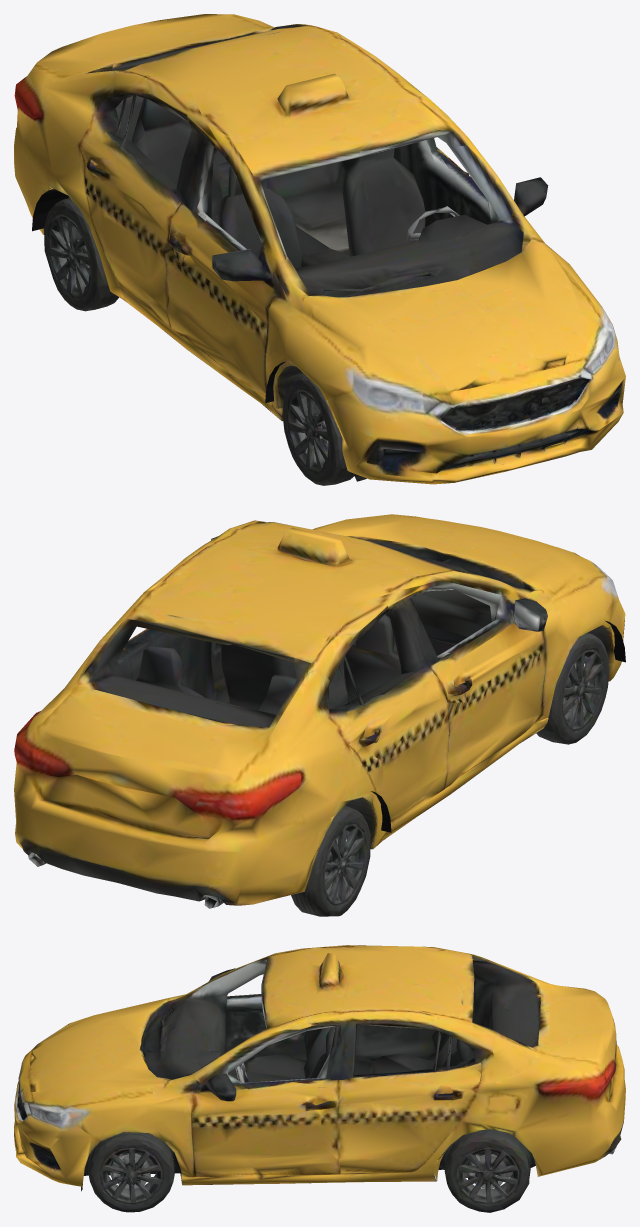
The model's file is car_taxi_lod.glb.
3 renders of one model, top to bottom at view 1: azimuth 30°, elevation 25°; view 2: azimuth 150°, elevation 25°; view 3: azimuth 270°, elevation 25°, orthographic. The views are drawn at different scales.
Visible parts, largest first — view 1: body, wheel_FR, wheel_RR, liner_RR; view 2: body, wheel_FR, wheel_RR; view 3: body, wheel_RL, wheel_FL.
Part boxes in pixels (x1,y1,x2,y2): body: [14, 14, 625, 484]; wheel_FR: [277, 365, 354, 485]; wheel_RR: [44, 198, 118, 311]; liner_RR: [32, 189, 69, 231]; body: [14, 514, 625, 916]; wheel_FR: [536, 625, 613, 744]; wheel_RR: [313, 797, 377, 916]; body: [14, 945, 625, 1209]; wheel_RL: [434, 1129, 528, 1212]; wheel_FL: [87, 1132, 174, 1212].
Bounding box in the file's own units: 2.2 × 1.71 × 4.7.
Materials: 2 (1 with a texture image).
